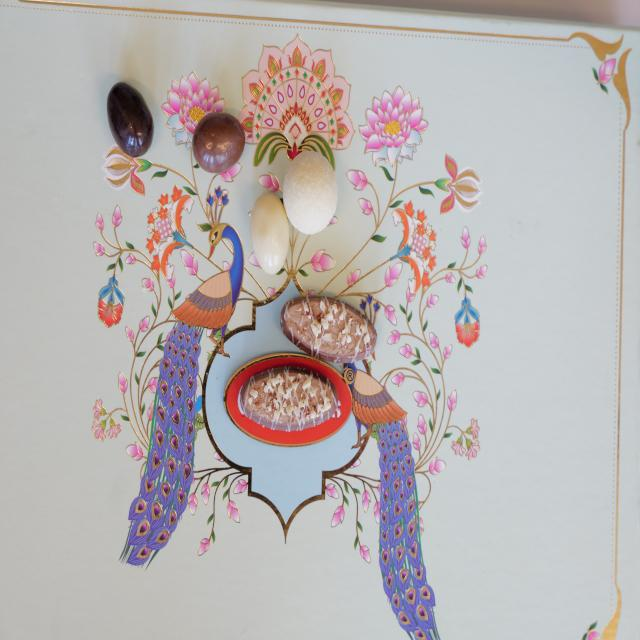Amandina: (239, 366, 339, 432), (282, 296, 369, 362)
Comtesse: (282, 149, 338, 234)
Jelly_Black: (106, 83, 154, 158)
Jelly_Milk: (192, 112, 246, 173)
Jelly_White: (249, 193, 289, 275)
